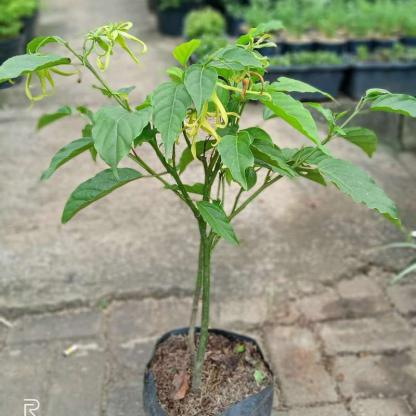Kenanga: (171, 73, 249, 164), (86, 22, 130, 74)
